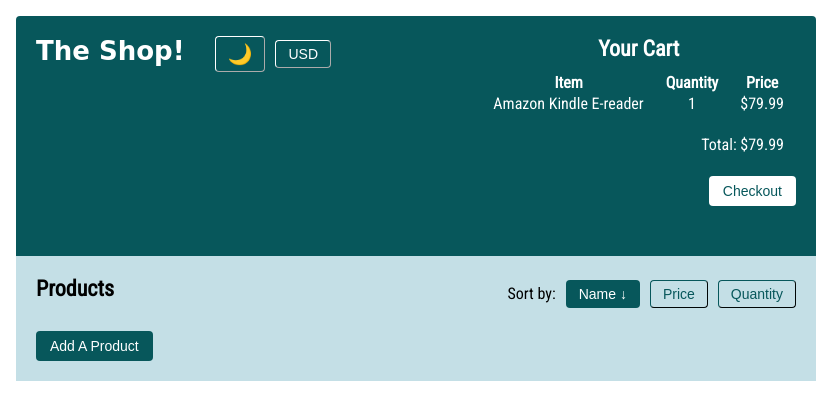
Test: checkout removes item and shows empty message
The image size is (833, 398).
Step 1. Click the button "Checkout" → (752, 191), box left=709, top=176, right=796, bottom=206
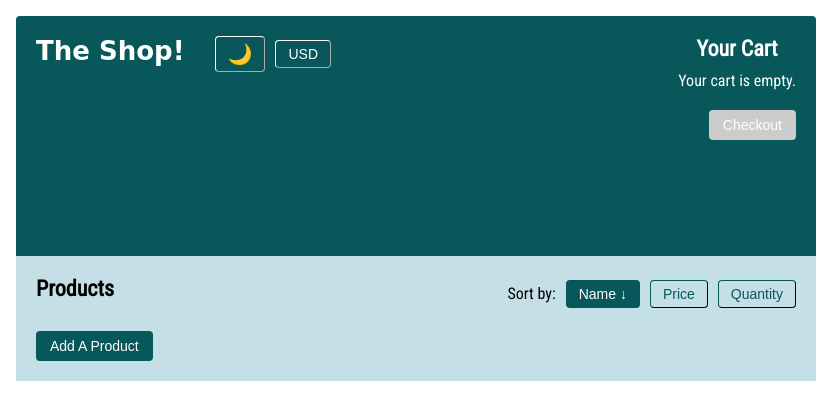
Check: the button "Checkout" is disabled, box left=709, top=110, right=796, bottom=140
Check: the text "Your cart is empty." is shown, box left=678, top=71, right=796, bottom=90
